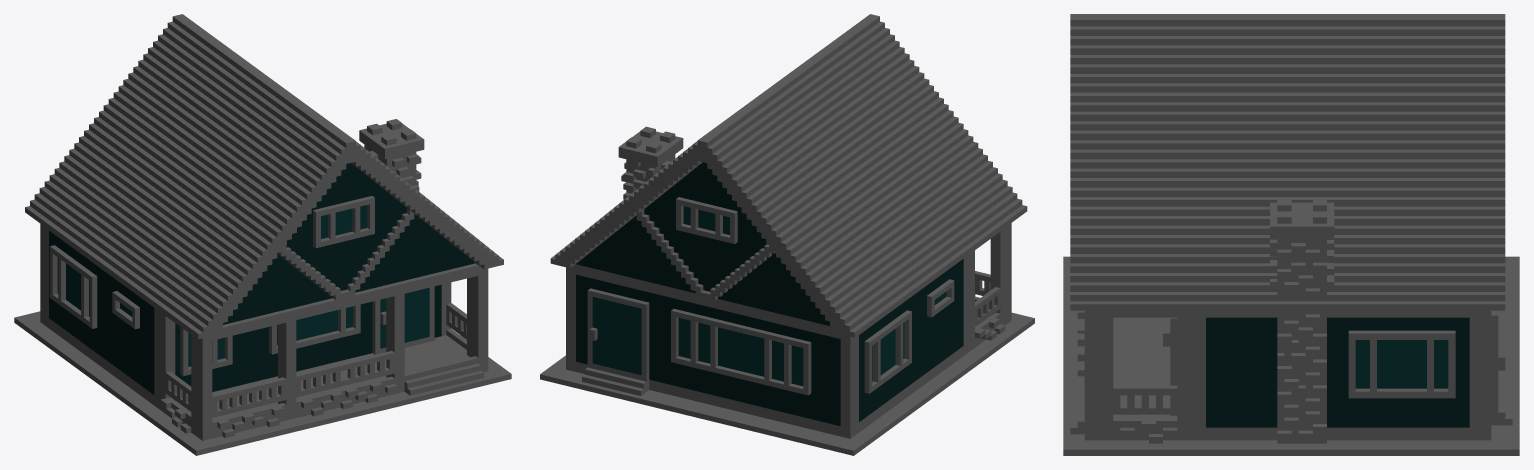
File: bld_house3c.obj
3 renders of one model, left to right at view 1: azimuth 30°, elevation 25°; view 2: azimuth 150°, elevation 25°; view 3: azimuth 270°, elevation 25°, orthographic. The views are drawn at different scales.
Size of the model in its own units: 64 by 53 by 64.
